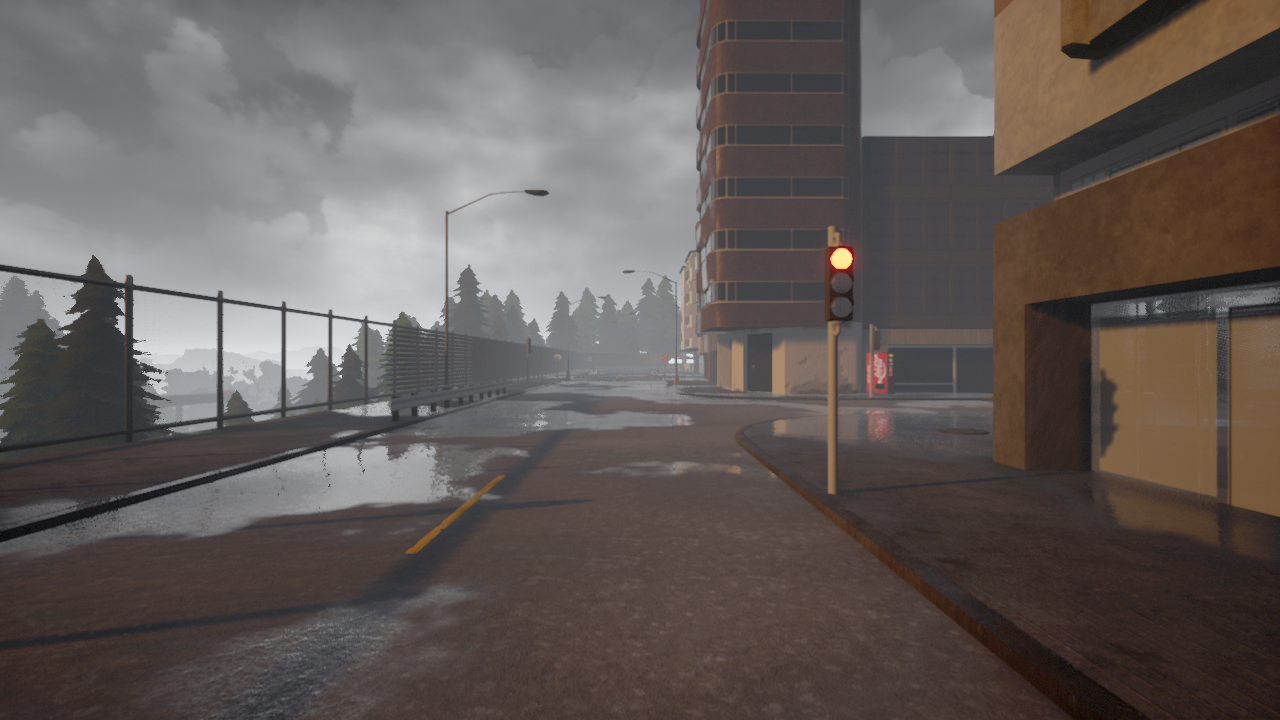red: (822, 242, 853, 326)
